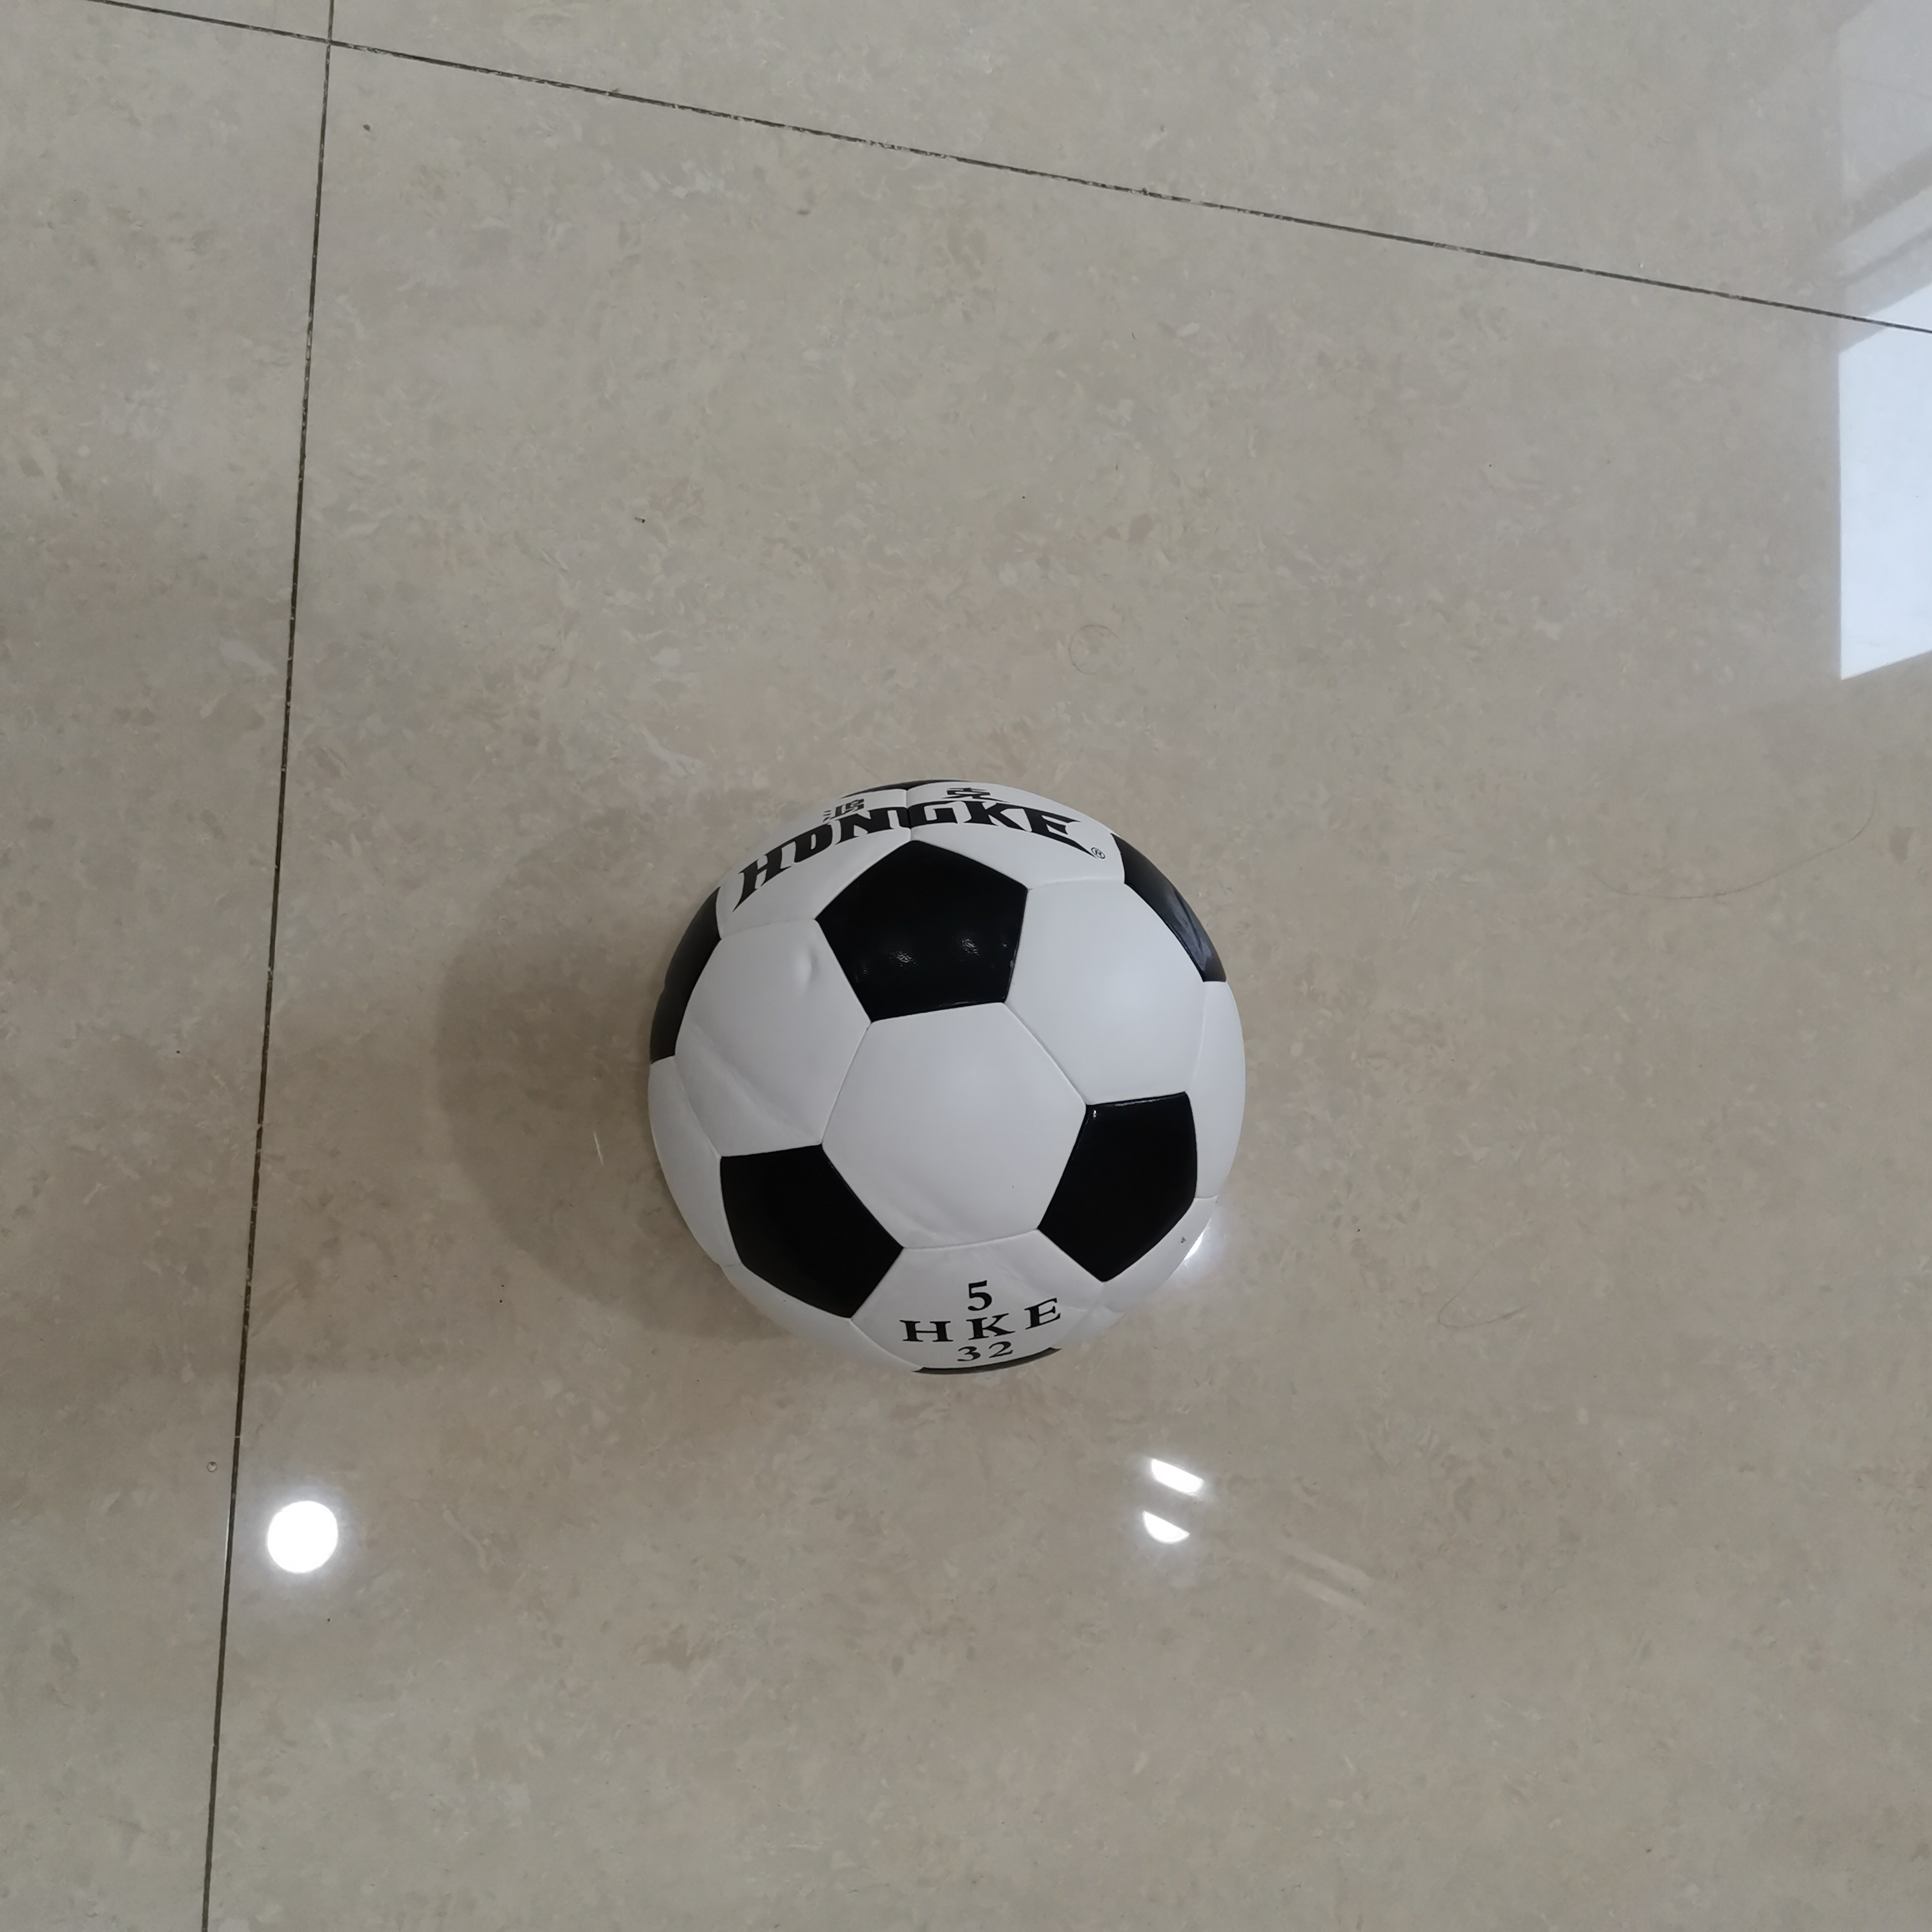football: (646, 782, 1246, 1378)
